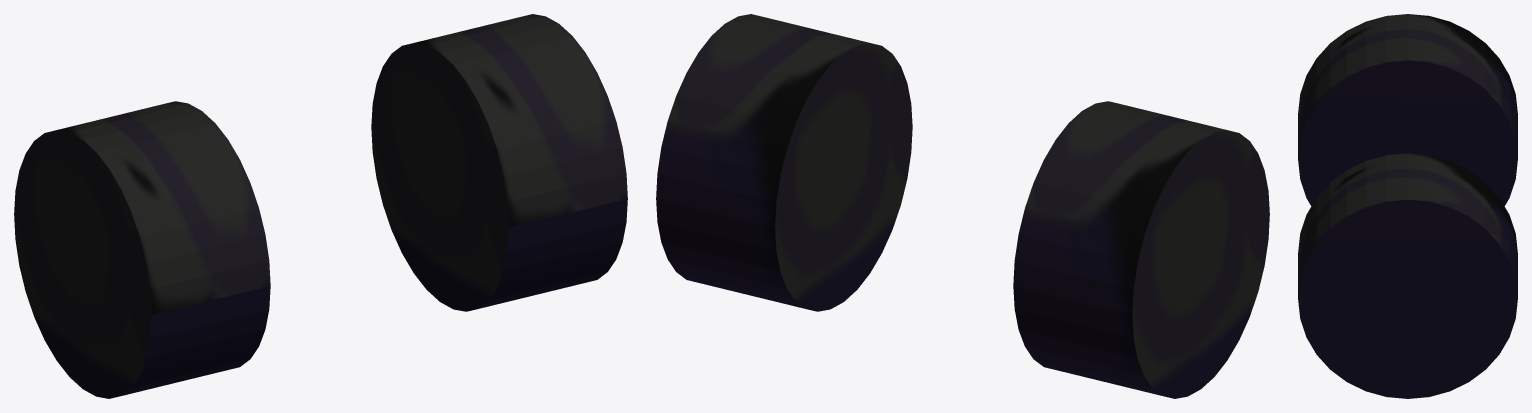
The model's file is TruckWheel.obj.
The picture shows the model from 3 angles, left to right: view 1: azimuth 30°, elevation 25°; view 2: azimuth 150°, elevation 25°; view 3: azimuth 270°, elevation 25°; orthographic projection. The views are drawn at different scales.
Visible parts, largest first — view 1: 円柱; view 2: 円柱; view 3: 円柱.
Boxes of the visible parts, bbox=[...] form: 円柱: bbox=[14, 14, 627, 398]; 円柱: bbox=[656, 14, 1269, 398]; 円柱: bbox=[1298, 14, 1517, 398].
Bounding box in the file's own units: 4 × 2 × 2.
1 material, 1 textured.
